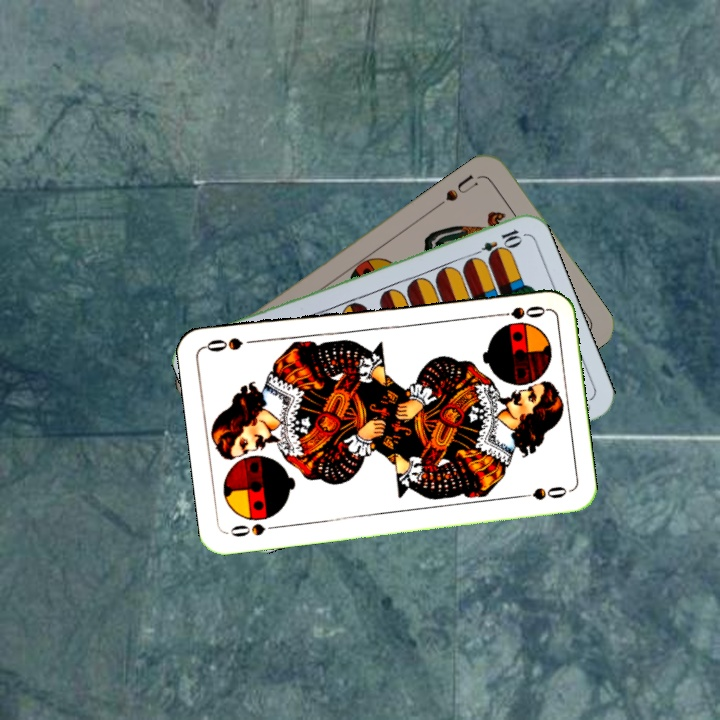E10: (467, 225, 525, 261)
SO: (490, 301, 549, 322), (224, 519, 283, 540)
SU: (432, 171, 481, 210)
